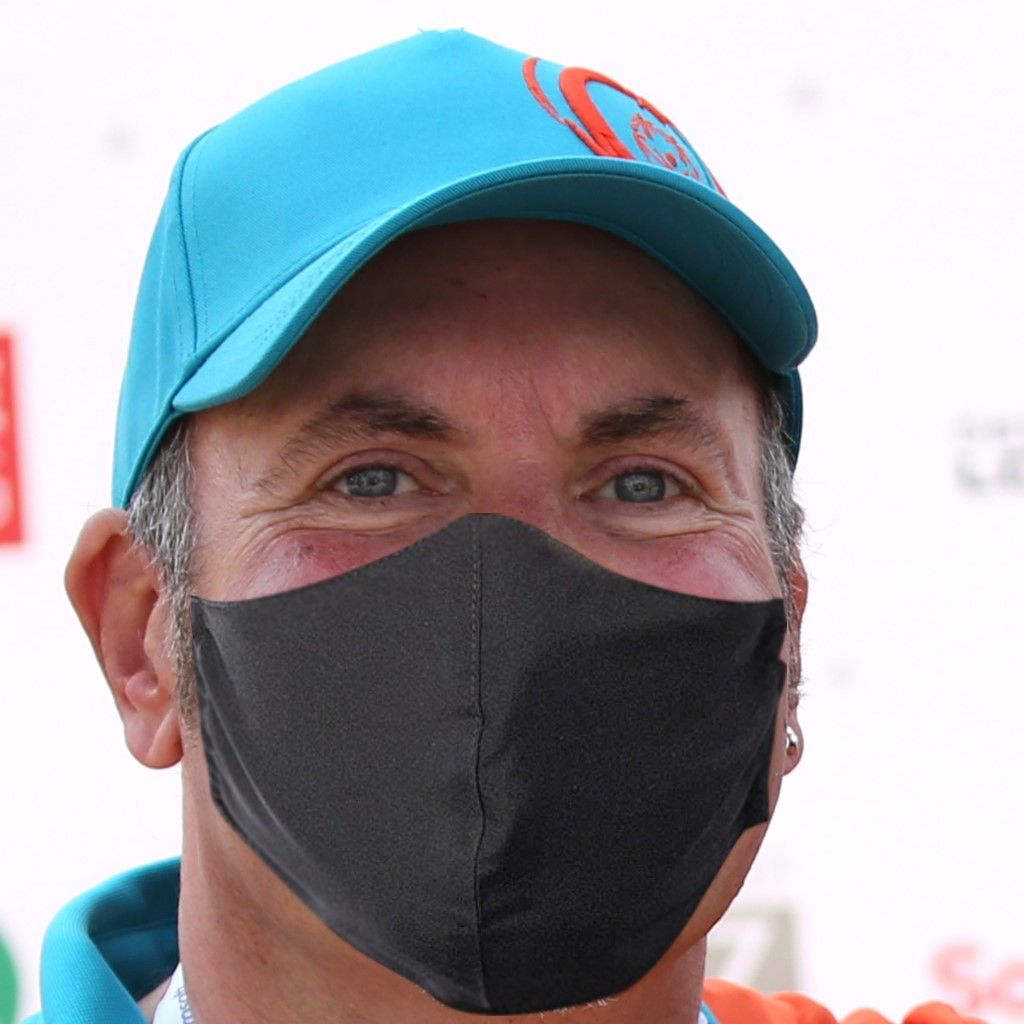con_mascara: (155, 149, 785, 985)
